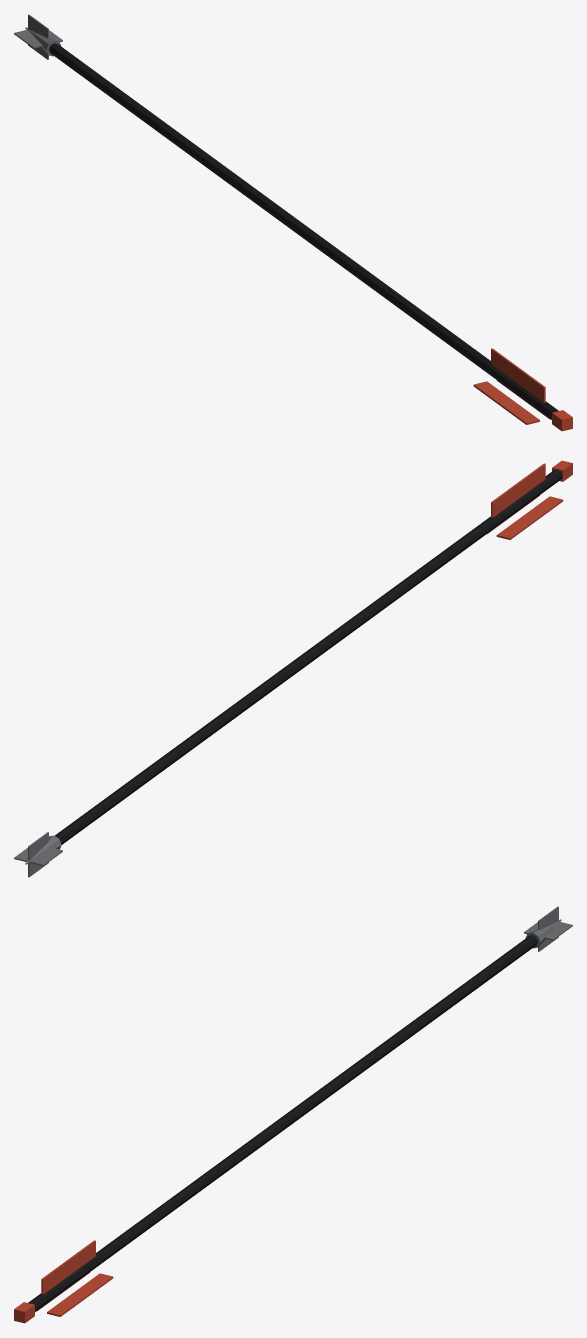
The model's file is arrow.glb.
3 renders of one model, top to bottom at view 1: azimuth 30°, elevation 25°; view 2: azimuth 150°, elevation 25°; view 3: azimuth 330°, elevation 25°, orthographic.
Visible parts, largest first — view 1: arrow; view 2: arrow; view 3: arrow.
Part boxes in pixels (box(x1,y1,x2,y2)): arrow: box(14, 14, 572, 431); arrow: box(14, 460, 572, 877); arrow: box(14, 906, 572, 1323).
Size of the model in its own units: 0.03 by 0.028 by 0.767.
